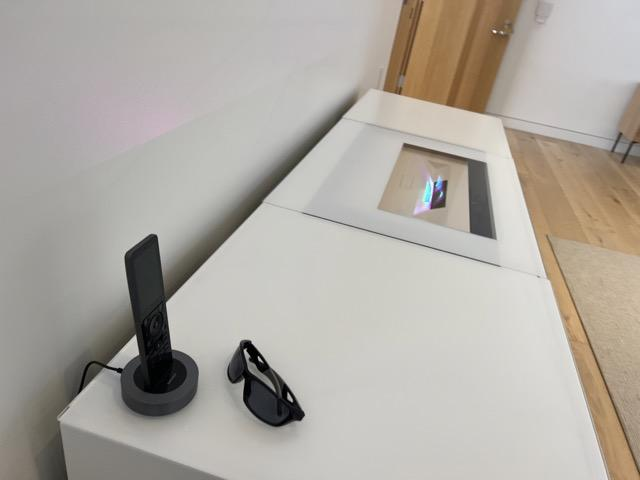Sunglasses: (227, 338, 307, 429)
